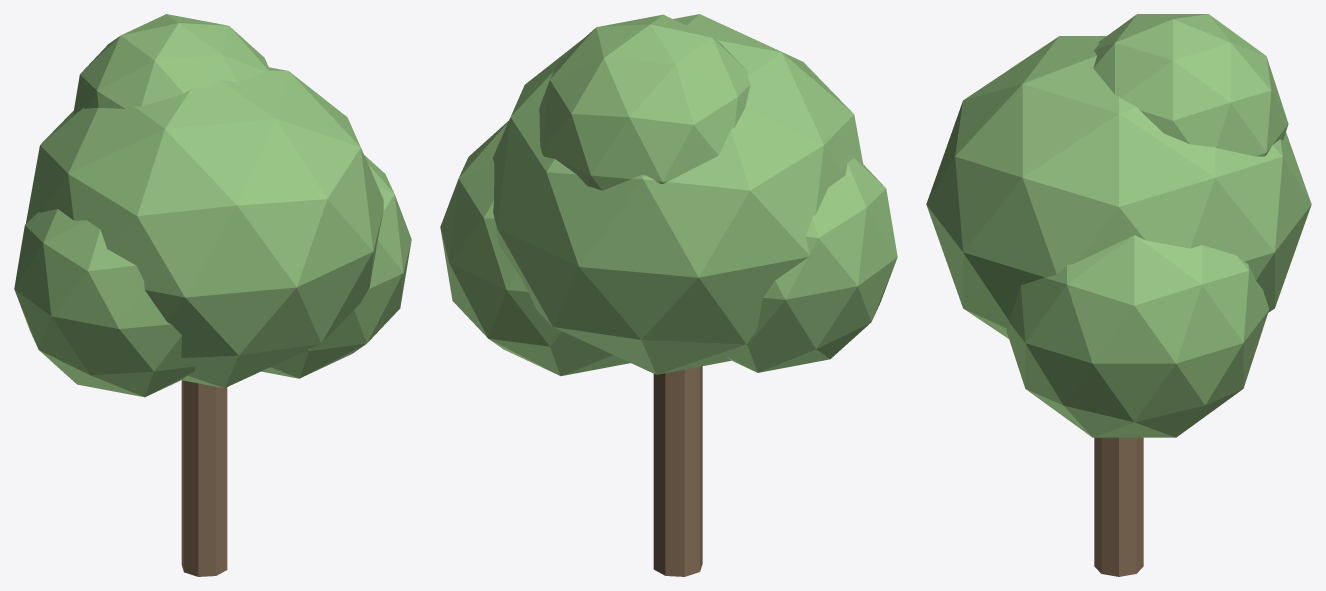
File: tree_b.glb
The picture shows the model from 3 angles, left to right: view 1: azimuth 30°, elevation 25°; view 2: azimuth 150°, elevation 25°; view 3: azimuth 270°, elevation 25°; orthographic projection. The views are drawn at different scales.
Parts seen in each view (by area): view 1: tree_b; view 2: tree_b; view 3: tree_b.
Boxes of the visible parts, left/top/right/bottom form: tree_b: left=14, top=14, right=411, bottom=576; tree_b: left=440, top=14, right=897, bottom=576; tree_b: left=926, top=14, right=1311, bottom=576.
Size of the model in its own units: 2.92 by 3.92 by 2.5.
